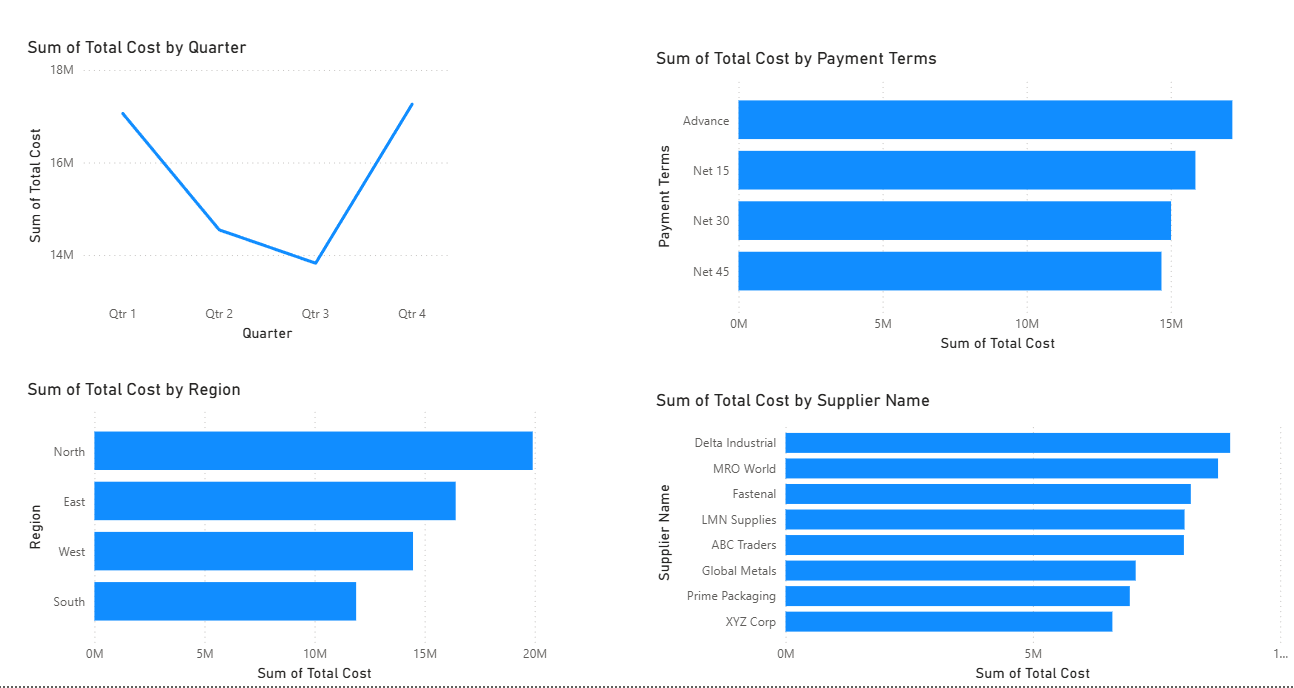

The page's visual inventory and layout, read from the dashboard file:
{"tool":"powerbi","page":{"name":"Page 2","canvas":[1280,720],"ordinal":1},"visuals":[{"type":"lineChart","fields":{"Category":["procurement_data.Date.Variation.Date Hierarchy.Quarter"],"Y":["Sum(procurement_data.Total Cost)"]},"box":[35.5,84.4,424.3,303.3],"z":0},{"type":"barChart","fields":{"Category":["procurement_data.Payment Terms"],"Y":["Sum(procurement_data.Total Cost)"]},"box":[650.5,95.4,610.2,302],"z":1000},{"type":"barChart","fields":{"Category":["procurement_data.Supplier Name"],"Y":["Sum(procurement_data.Total Cost)"]},"box":[650.5,430.4,629.8,289.8],"z":2000},{"type":"barChart","fields":{"Category":["procurement_data.Region"],"Y":["Sum(procurement_data.Total Cost)"]},"box":[35.5,419.4,518.5,300.8],"z":3000}]}

Visuals, with their boxes on the page's 1280x720 design canvas (x1, y1, x2, y2). These are canvas units, not pixel positions in the 1294x688 screenshot, which may show the page scaled, cropped or inside an application window:
lineChart - procurement_data.Date.Variation.Date Hierarchy.Quarter x Sum(procurement_data.Total Cost): crop(36, 84, 460, 388)
barChart - procurement_data.Payment Terms x Sum(procurement_data.Total Cost): crop(650, 95, 1261, 397)
barChart - procurement_data.Supplier Name x Sum(procurement_data.Total Cost): crop(650, 430, 1280, 720)
barChart - procurement_data.Region x Sum(procurement_data.Total Cost): crop(36, 419, 554, 720)
